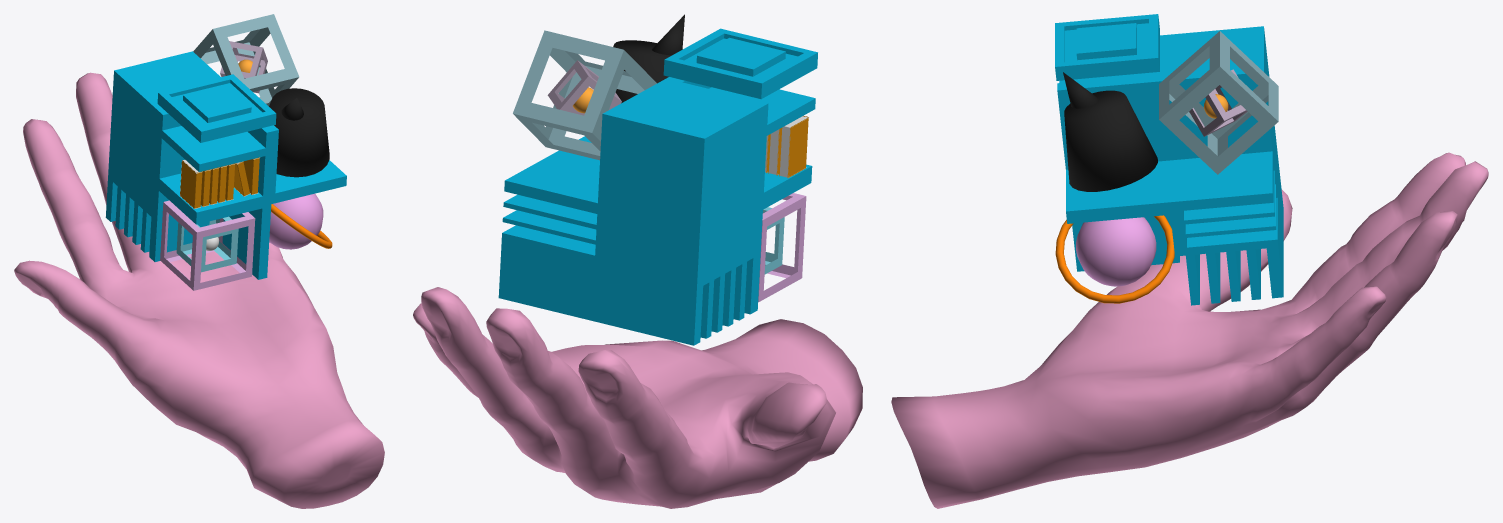
The model's file is handCube.glb.
3 views of the same model, side by side, from view 1: azimuth 30°, elevation 25°; view 2: azimuth 150°, elevation 25°; view 3: azimuth 270°, elevation 25° (orthographic). The views are drawn at different scales.
Parts seen in each view (by area): view 1: theooo-base.003, Cube, Cube.001, Cube.013, Cylinder, Cube.010, Torus.001, Cube.011, Cube.002, Cube.012, Cube.008; view 2: theooo-base.003, Cube, Cube.013, Cube.001, Cube.010, Cube.002, Cylinder, Cube.012, Cone, Cube.011, Cube.003; view 3: theooo-base.003, Cube, Cube.013, Cylinder, Torus.001, Cube.001, Cube.012, Cone.
Part boxes in pixels (x1,y1,x2,y2): theooo-base.003: [14, 72, 384, 508]; Cube: [105, 51, 346, 279]; Cube.001: [157, 74, 276, 142]; Cube.013: [193, 14, 299, 106]; Cylinder: [269, 88, 329, 177]; Cube.010: [160, 200, 255, 290]; Torus.001: [269, 193, 332, 249]; Cube.011: [176, 216, 238, 272]; Cube.002: [180, 160, 202, 208]; Cube.012: [220, 41, 267, 93]; Cube.008: [243, 157, 259, 194]; theooo-base.003: [413, 287, 862, 508]; Cube: [498, 77, 815, 345]; Cube.013: [513, 30, 656, 160]; Cube.001: [663, 28, 817, 99]; Cube.010: [758, 193, 806, 302]; Cube.002: [779, 116, 809, 177]; Cylinder: [613, 40, 671, 103]; Cube.012: [547, 60, 621, 115]; Cone: [652, 14, 684, 55]; Cube.011: [762, 207, 784, 274]; Cube.003: [768, 128, 781, 175]; theooo-base.003: [891, 152, 1488, 508]; Cube: [1057, 26, 1283, 305]; Cube.013: [1159, 31, 1278, 174]; Cylinder: [1064, 90, 1157, 191]; Torus.001: [1055, 215, 1174, 303]; Cube.001: [1055, 14, 1159, 80]; Cube.012: [1189, 69, 1247, 136]; Cone: [1063, 72, 1098, 108].
Bounding box in the file's own units: 1.63 × 2.23 × 2.58.
